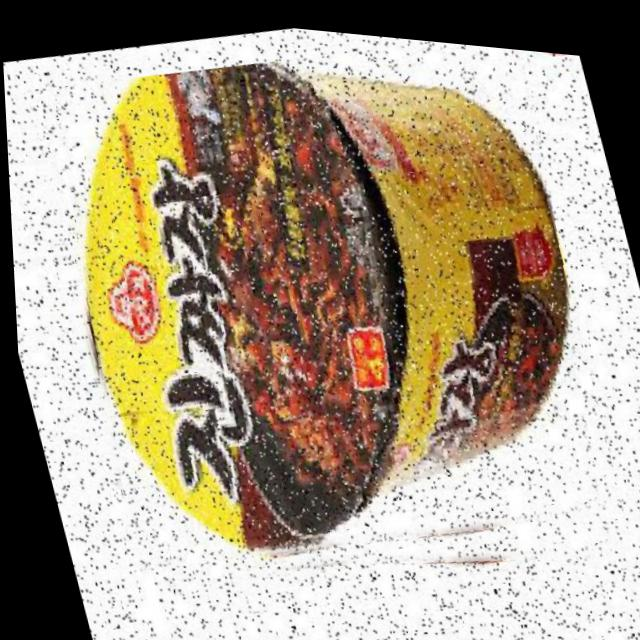Miscellaneous: (11, 1, 640, 637)
